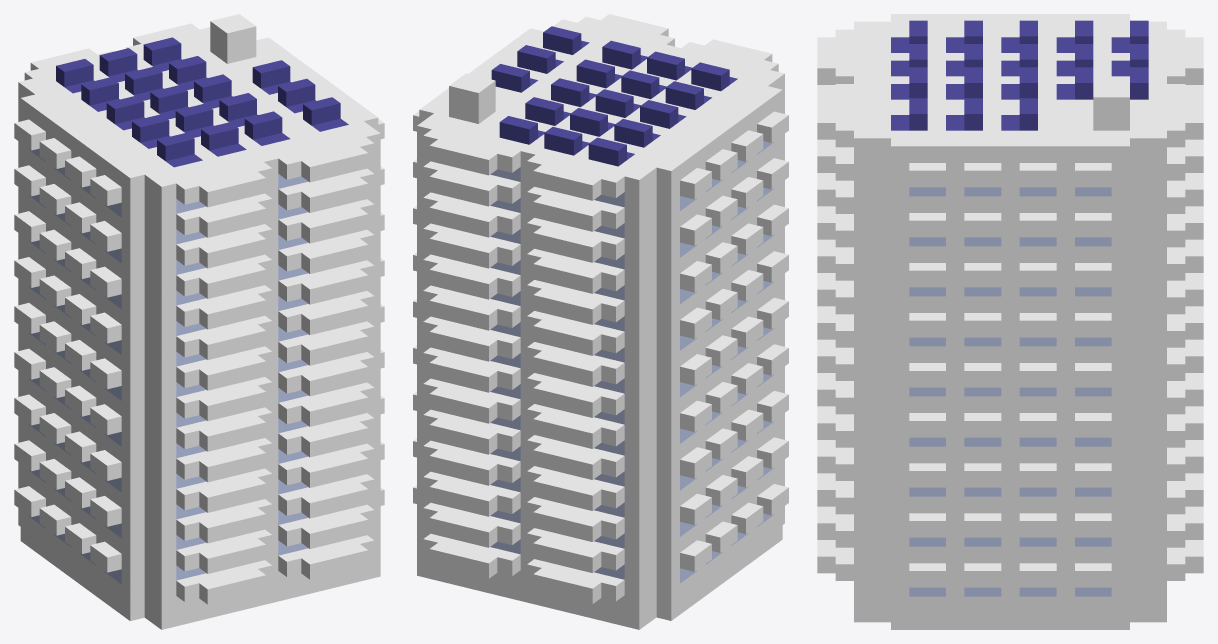
File: oldflat.fbx
3 views of the same model, side by side, from view 1: azimuth 30°, elevation 25°; view 2: azimuth 150°, elevation 25°; view 3: azimuth 270°, elevation 25° (orthographic). The views are drawn at different scales.
Visible parts, largest first — view 1: Layer.066; view 2: Layer.066; view 3: Layer.066.
Part boxes in pixels (x1=…): Layer.066: x1=14, y1=14, x2=384, y2=629; Layer.066: x1=413, y1=14, x2=788, y2=629; Layer.066: x1=817, y1=14, x2=1203, y2=629.
Bounding box in the file's own units: 1900 × 3100 × 2100.
